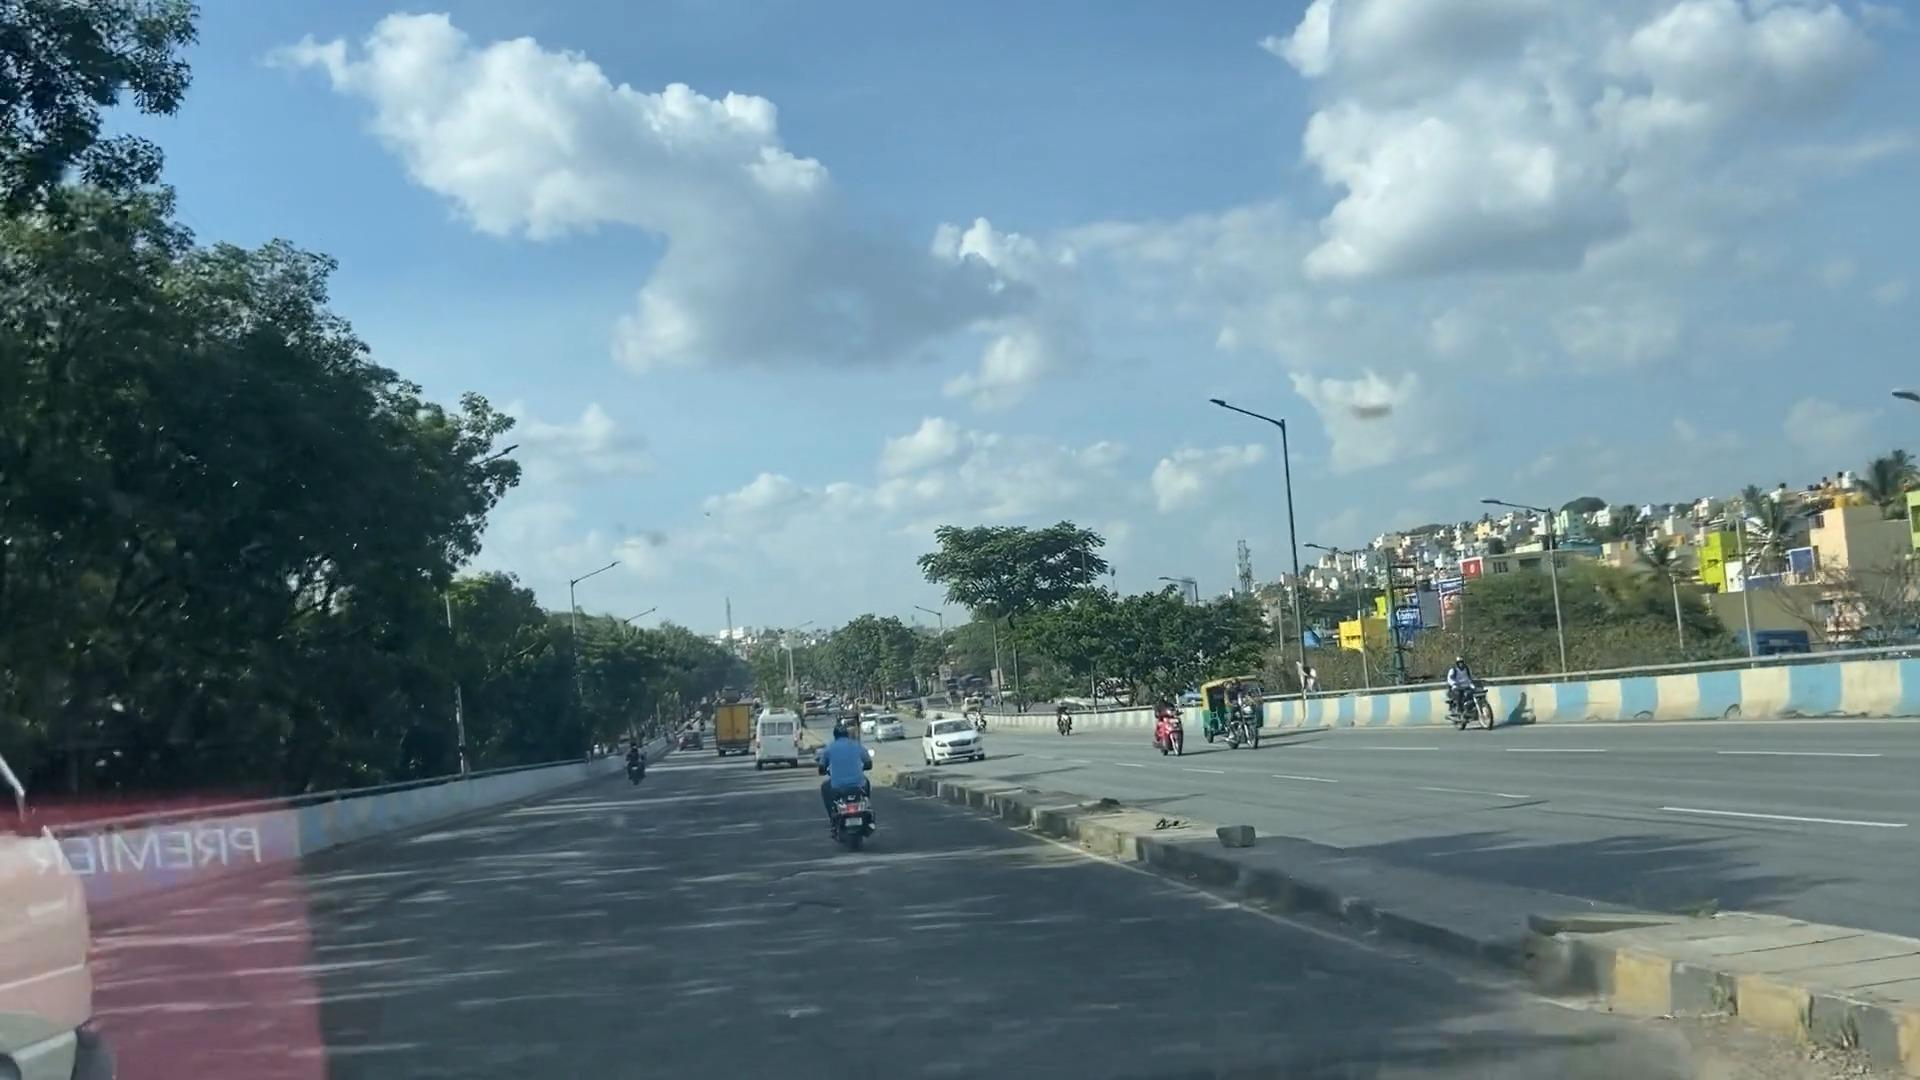LMV: (818, 716, 887, 863)
